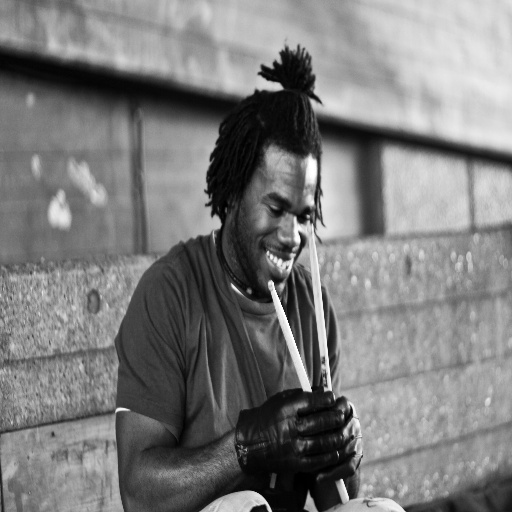hand: (211, 374, 370, 492), (312, 393, 362, 483)
